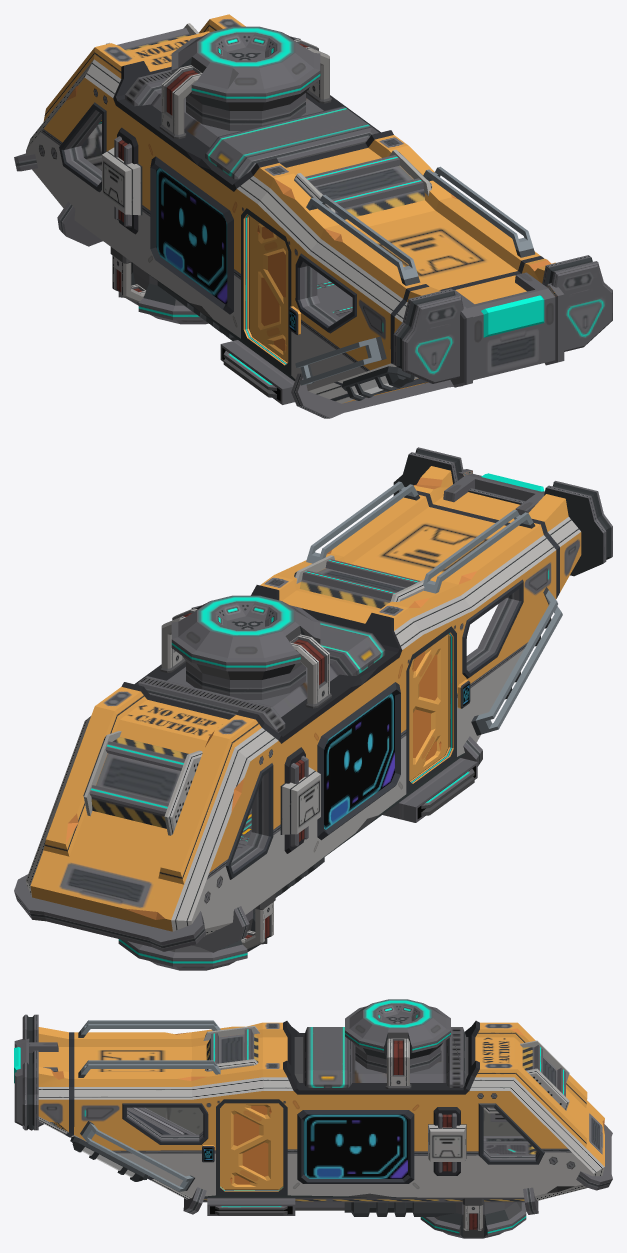
File: cyber_SM_Veh_Train_Cockpit_01.gltf
The picture shows the model from 3 angles, top to bottom: view 1: azimuth 30°, elevation 25°; view 2: azimuth 150°, elevation 25°; view 3: azimuth 270°, elevation 25°; orthographic projection. The views are drawn at different scales.
Parts seen in each view (by area): view 1: SM_Veh_Train_Cockpit_01; view 2: SM_Veh_Train_Cockpit_01; view 3: SM_Veh_Train_Cockpit_01.
Boxes of the visible parts, <box> form: SM_Veh_Train_Cockpit_01: <box>14,14,612,418</box>; SM_Veh_Train_Cockpit_01: <box>14,447,612,970</box>; SM_Veh_Train_Cockpit_01: <box>14,999,612,1238</box>.
Bounding box in the file's own units: 3.47 × 4.67 × 12.08.
Materials: 2 (2 with a texture image).
